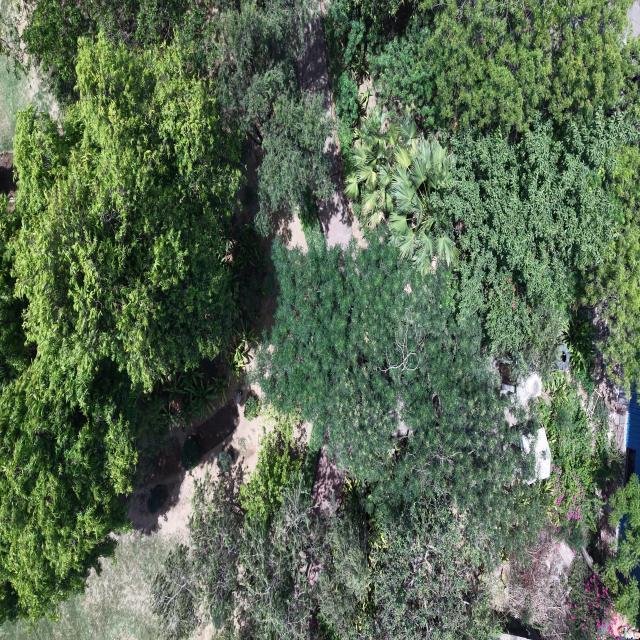DRY_AREA: (0, 381, 264, 639), (0, 383, 264, 639), (0, 400, 263, 639), (0, 57, 58, 151), (319, 133, 351, 246), (0, 152, 16, 195)
VEGETATION_TREE: (0, 0, 639, 639), (207, 0, 639, 638), (0, 0, 328, 619), (153, 231, 632, 639), (0, 36, 240, 618), (324, 0, 638, 390), (257, 232, 539, 554), (13, 35, 240, 401), (0, 0, 333, 234), (346, 110, 637, 352), (153, 470, 499, 639), (440, 115, 637, 351), (326, 0, 636, 132), (496, 371, 637, 638), (153, 414, 313, 639), (0, 359, 138, 619), (370, 0, 636, 132), (199, 0, 333, 234), (520, 371, 637, 638), (0, 0, 183, 105), (345, 109, 459, 275), (370, 502, 500, 639), (197, 0, 315, 143), (217, 477, 319, 639), (539, 376, 620, 547), (584, 144, 639, 391), (567, 474, 639, 639), (483, 522, 582, 638), (256, 95, 334, 234), (311, 478, 374, 638), (21, 0, 108, 103), (239, 407, 303, 522), (323, 2, 370, 156), (227, 224, 273, 377), (0, 195, 34, 384), (603, 474, 639, 626), (152, 545, 197, 639), (567, 555, 613, 639), (158, 371, 228, 426), (563, 309, 594, 384), (146, 484, 168, 514), (181, 437, 199, 470), (244, 395, 261, 419), (217, 450, 233, 472)
